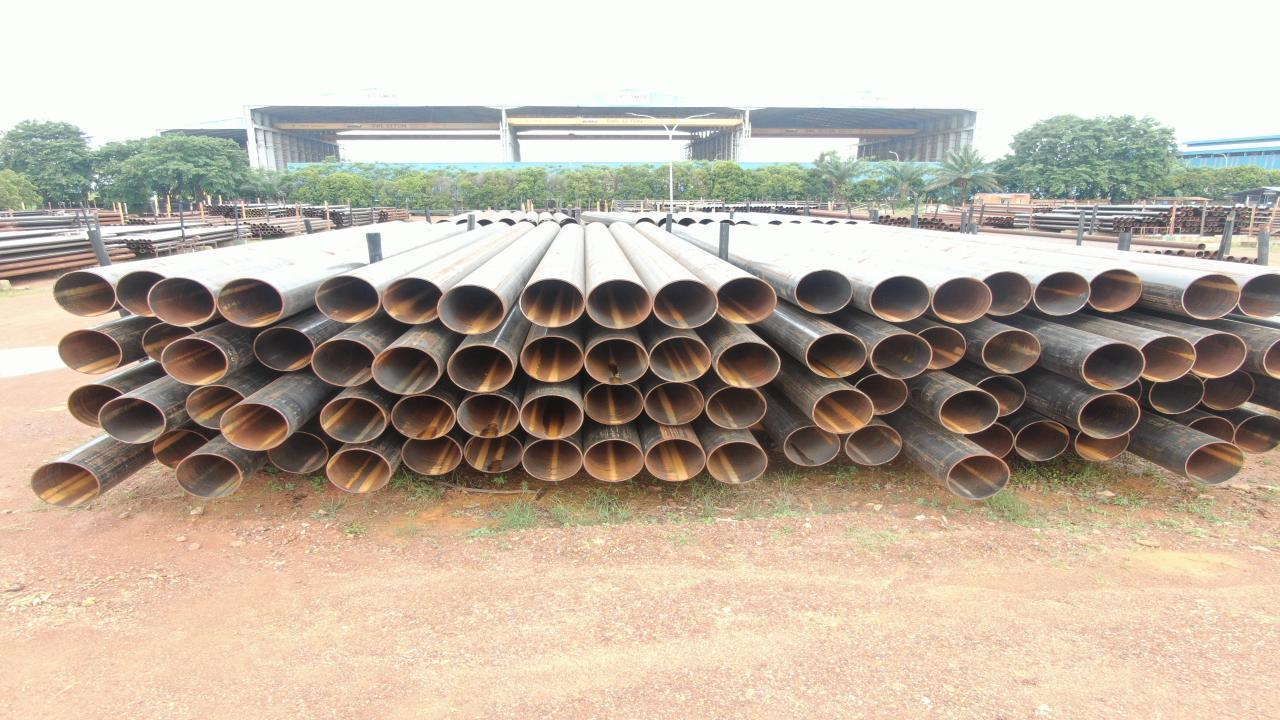pipe: (216, 277, 286, 328), (219, 402, 291, 451), (147, 276, 216, 327), (371, 346, 441, 396), (437, 285, 506, 335), (519, 278, 586, 329), (586, 279, 653, 330), (653, 279, 719, 330), (447, 344, 515, 393), (30, 461, 100, 508), (161, 338, 229, 386), (319, 396, 387, 444), (98, 397, 167, 444), (315, 275, 381, 324), (311, 338, 377, 387), (1081, 342, 1146, 391), (584, 337, 650, 385), (175, 453, 243, 499), (716, 341, 781, 389), (391, 394, 457, 441), (53, 270, 117, 318), (519, 336, 584, 383), (382, 277, 444, 326), (58, 329, 124, 375), (869, 275, 932, 323), (1077, 393, 1141, 440), (716, 277, 778, 325), (931, 276, 993, 324), (326, 449, 392, 494), (649, 336, 712, 383), (253, 326, 317, 372), (805, 332, 868, 378), (812, 388, 875, 434), (870, 333, 933, 379), (520, 395, 584, 440), (946, 455, 1010, 500), (456, 394, 521, 438), (1138, 335, 1197, 383), (1181, 273, 1241, 320), (938, 390, 1000, 435), (982, 329, 1042, 375), (186, 385, 247, 430), (644, 382, 706, 426), (645, 438, 707, 482), (794, 269, 853, 315), (1185, 442, 1246, 486), (706, 387, 768, 430), (706, 441, 768, 484), (267, 432, 330, 474), (521, 439, 584, 481), (584, 383, 645, 426), (584, 439, 645, 482), (1191, 333, 1248, 379), (1033, 271, 1091, 316), (115, 270, 169, 318), (67, 384, 125, 428), (401, 435, 463, 476), (1087, 268, 1143, 313), (464, 433, 524, 473), (1148, 373, 1205, 415), (982, 271, 1034, 317), (783, 426, 841, 467), (845, 425, 903, 466), (142, 323, 198, 364), (153, 430, 210, 470), (916, 326, 967, 370), (1014, 421, 1070, 461), (854, 374, 908, 415), (1202, 370, 1256, 411), (975, 375, 1027, 417), (1237, 272, 1280, 319), (962, 423, 1015, 459), (1234, 415, 1280, 455), (1075, 431, 1131, 462), (1187, 416, 1235, 443), (1263, 335, 1280, 380)
